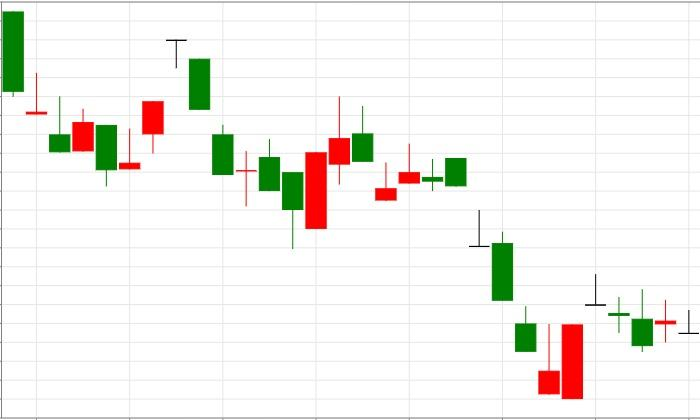inverse_hammer_rise: (422, 156, 560, 395)
